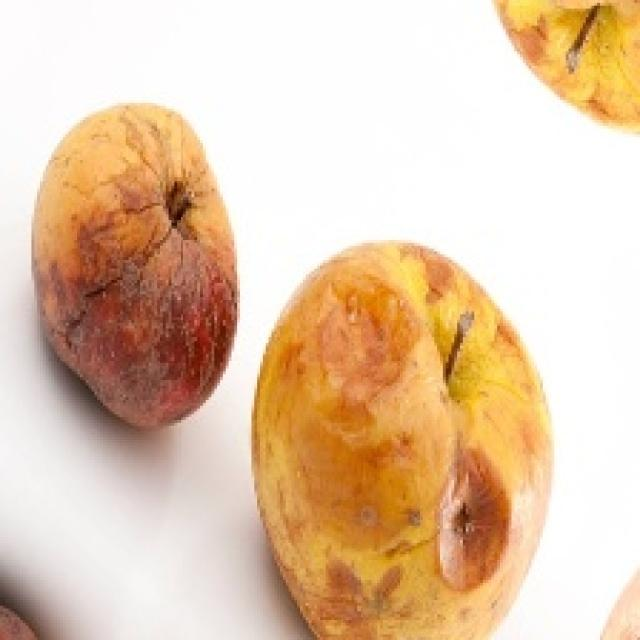rotten_apple: (260, 240, 549, 640), (37, 108, 235, 418), (496, 0, 640, 130)
